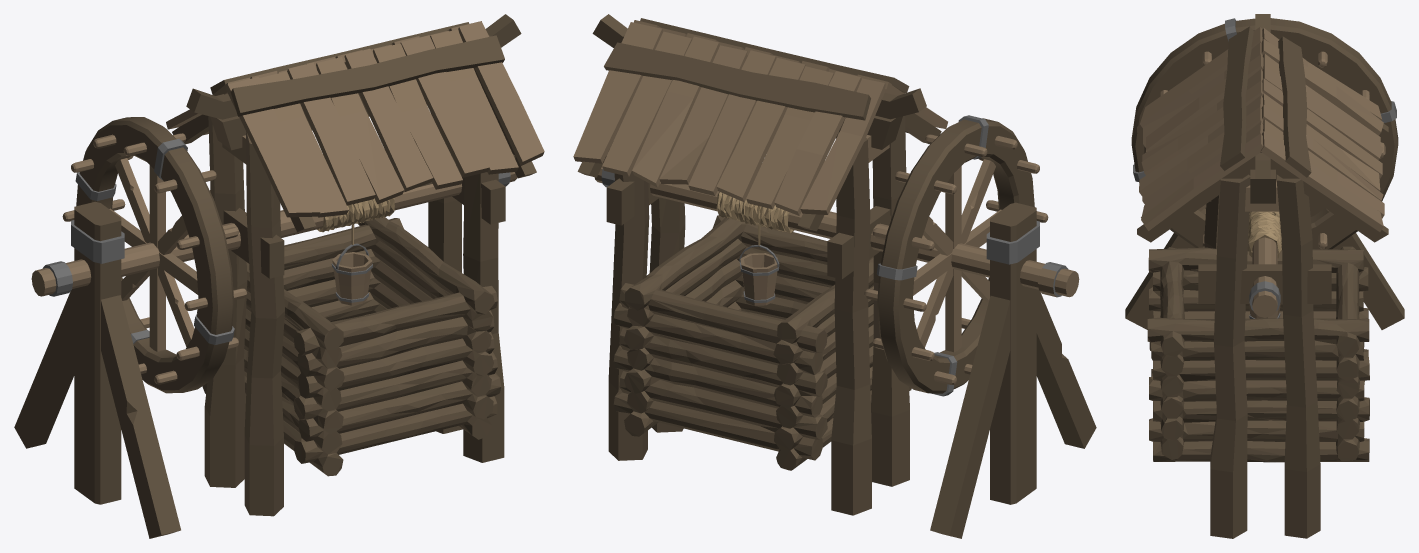
File: well_c.FBX
The picture shows the model from 3 angles, left to right: view 1: azimuth 30°, elevation 25°; view 2: azimuth 150°, elevation 25°; view 3: azimuth 270°, elevation 25°; orthographic projection. The views are drawn at different scales.
Parts seen in each view (by area): view 1: well_c; view 2: well_c; view 3: well_c.
Part boxes in pixels (x1,y1,x2,y2): well_c: (14,14,544,538); well_c: (573,14,1096,538); well_c: (1125,14,1404,538).
Size of the model in its own units: 4.04 by 3.36 by 2.16.
